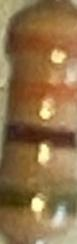Brown: (5, 121, 77, 152)
Orange: (3, 29, 77, 63), (10, 77, 77, 107)
Side-Gold: (0, 181, 75, 217)
